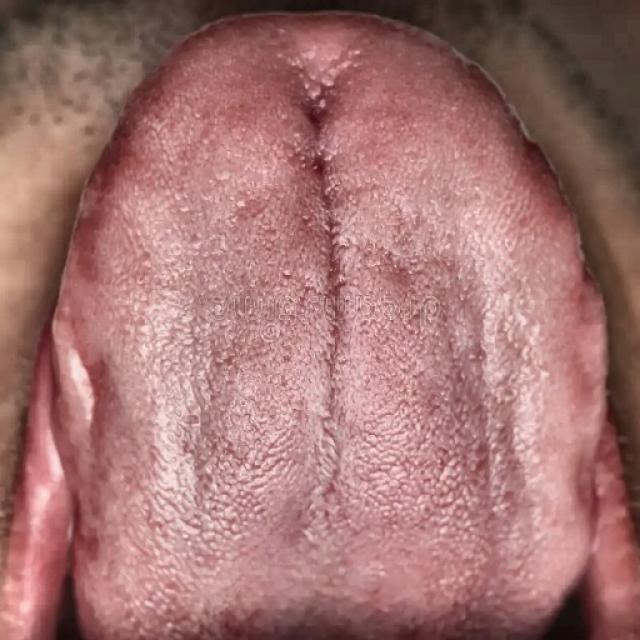processing_area: (1, 17, 639, 639)
